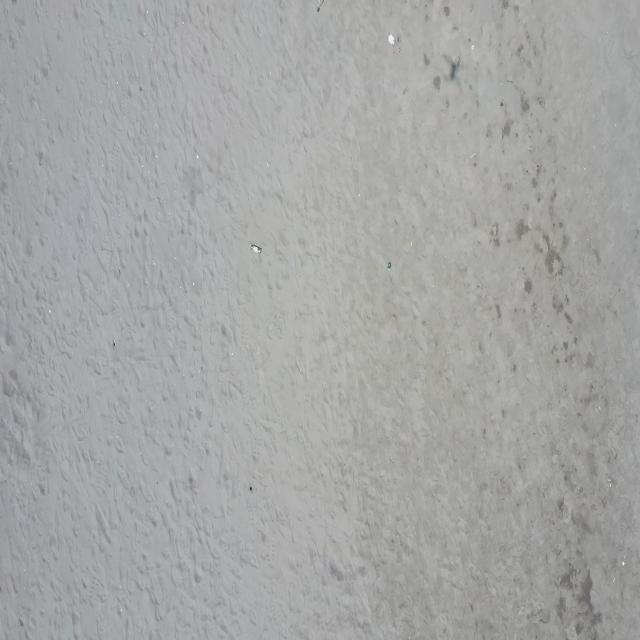glass: (386, 33, 402, 52), (251, 244, 262, 254), (316, 0, 324, 11), (386, 262, 392, 270)
